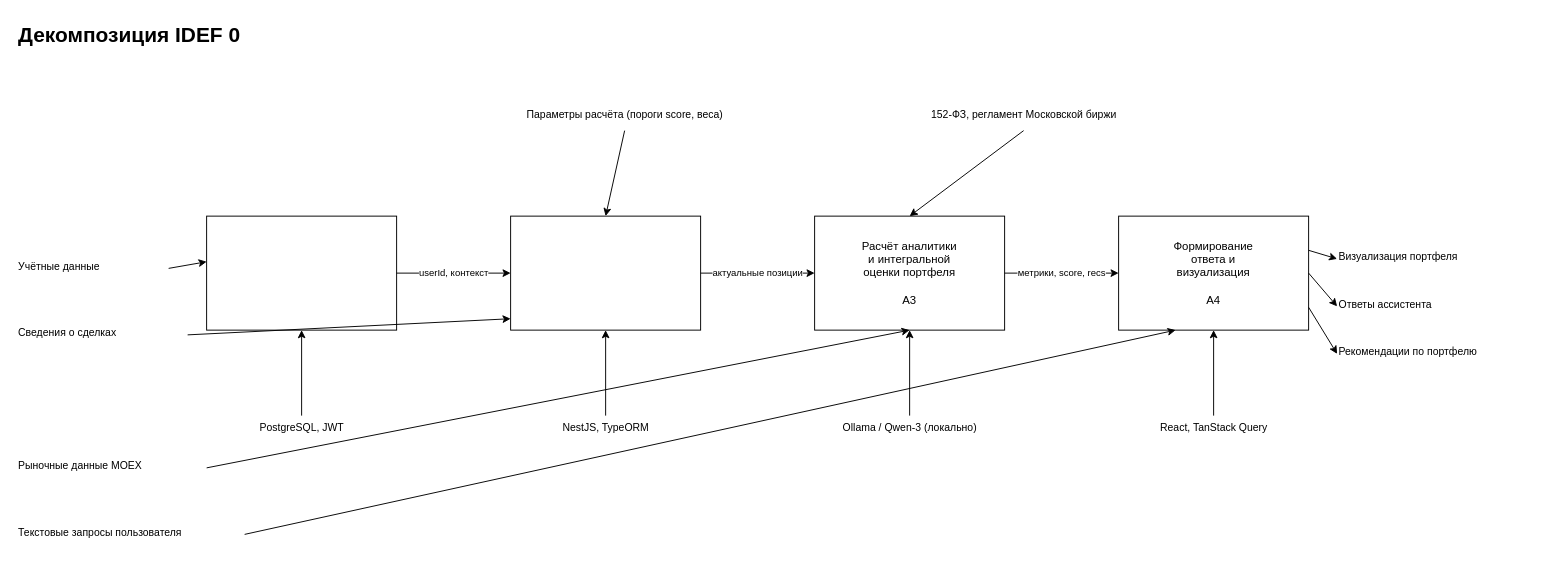
This 1562x564 diagram has some shape labels left out. Here are the shapes that lost their labels. From the top down, the centre of each, then its label:
At (301,272): "Аутентификация и подготовка данных пользователя A1".
At (605,272): "Учёт операций и обновление состояния позиций A2".
